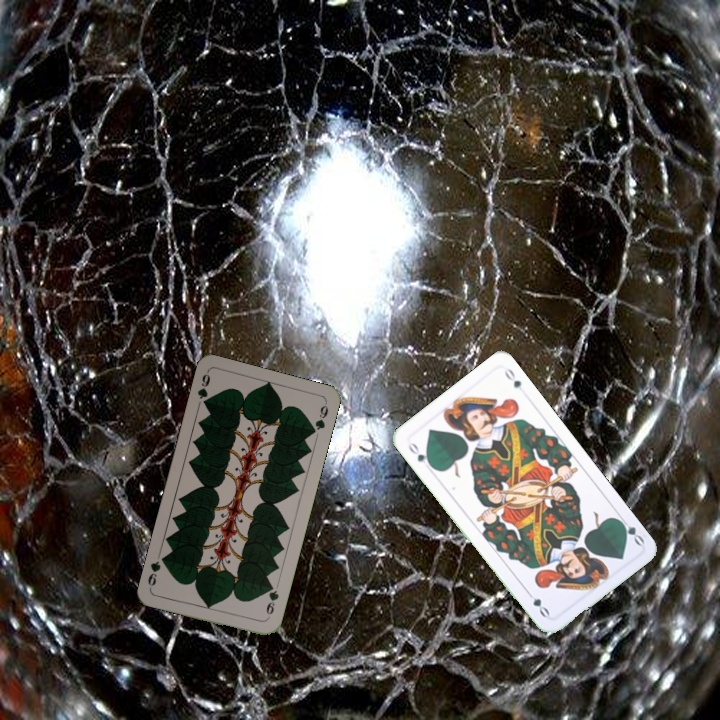G9: (193, 368, 213, 410), (262, 580, 281, 622)
GO: (614, 512, 647, 548), (404, 438, 435, 470)
